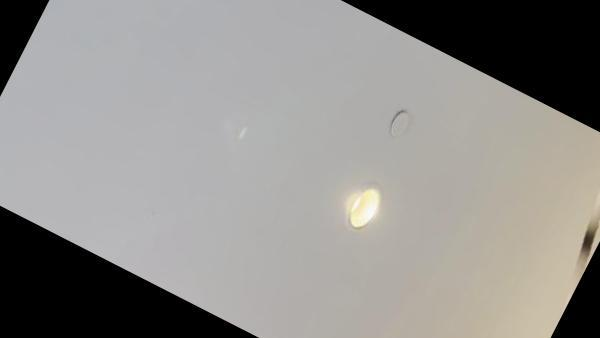light_on: (330, 171, 395, 242)
